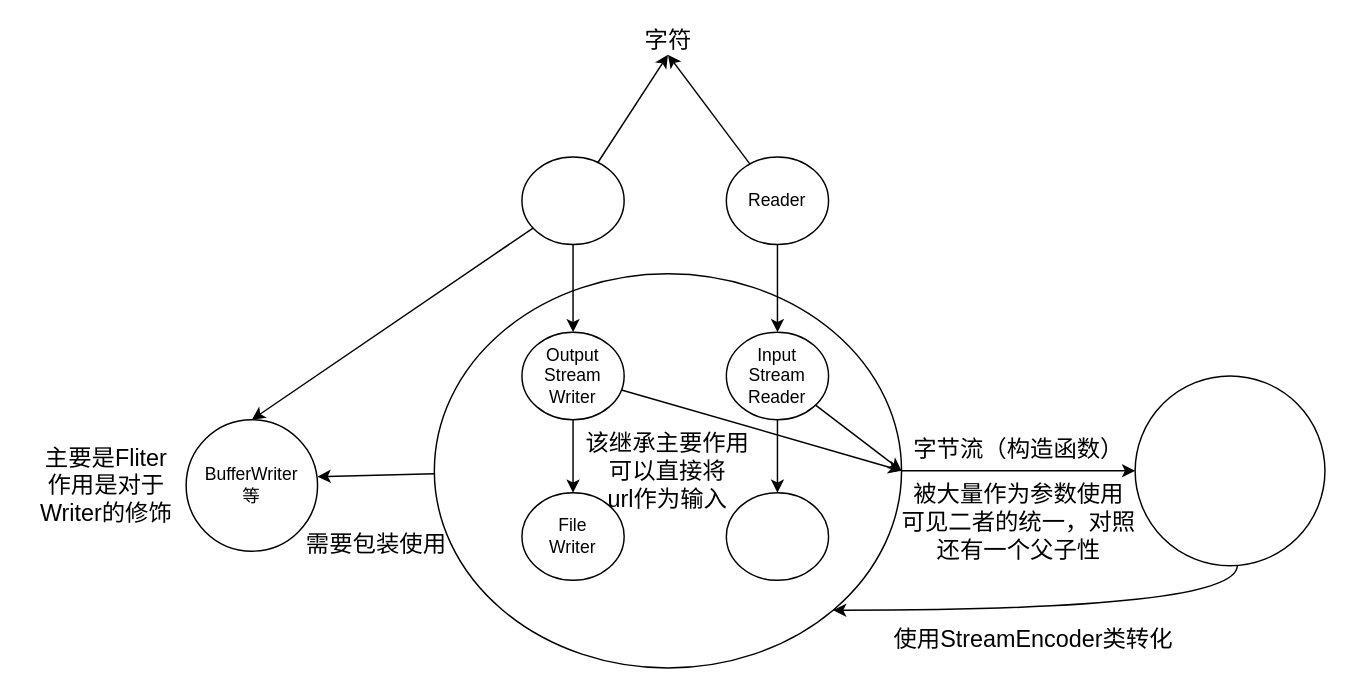
Image size: 1351x694. Some labels were removed from this diagram. The box of each missing label's shape, as (x1, y1, x2, y2) in pixels:
File Reader: (725, 491, 829, 580)
Writer: (520, 155, 624, 245)
大量实际使用I/OputStream类 甚至可以看作是一个将字节转化为字符的操作: (1134, 374, 1325, 566)
